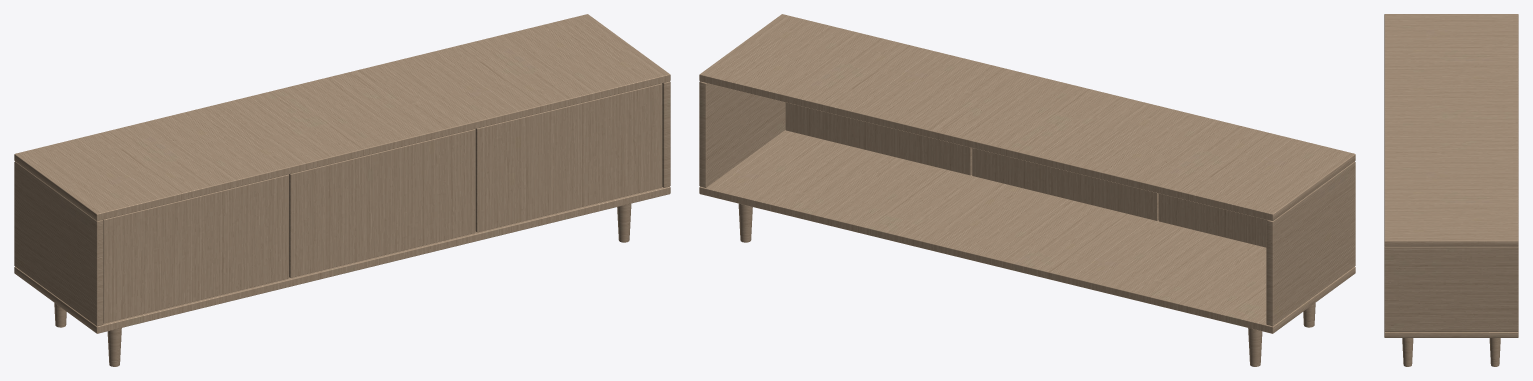
Rendered from tv_unit_oak.glb.
The picture shows the model from 3 angles, left to right: view 1: azimuth 30°, elevation 25°; view 2: azimuth 150°, elevation 25°; view 3: azimuth 270°, elevation 25°; orthographic projection. The views are drawn at different scales.
Visible parts, largest first — view 1: tv_unit_hard, tv_unit_smooth; view 2: tv_unit_hard, tv_unit_smooth; view 3: tv_unit_hard, tv_unit_smooth.
Part boxes in pixels (x1,y1,x2,y2): tv_unit_hard: (14, 14, 670, 333); tv_unit_smooth: (54, 203, 631, 366); tv_unit_hard: (699, 14, 1355, 333); tv_unit_smooth: (738, 203, 1315, 366); tv_unit_hard: (1384, 14, 1518, 337); tv_unit_smooth: (1402, 338, 1500, 366).
Size of the model in its own units: 1.6 by 0.4499 by 0.4001.
Materials: 2 (1 with a texture image).
